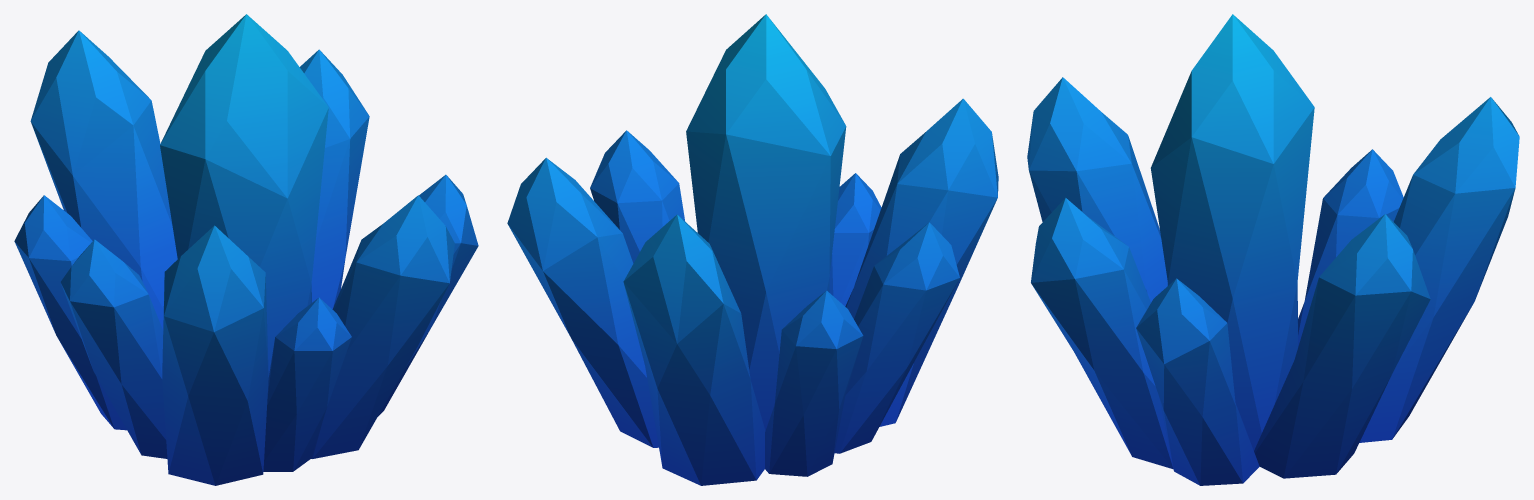
Rendered from crystal_4.glb.
3 views of the same model, side by side, from view 1: azimuth 30°, elevation 25°; view 2: azimuth 150°, elevation 25°; view 3: azimuth 270°, elevation 25° (orthographic). The views are drawn at different scales.
Parts seen in each view (by area): view 1: crystal_4; view 2: crystal_4; view 3: crystal_4.
Boxes of the visible parts, box(x1,y1,x2,y2) form: crystal_4: box(14, 14, 478, 485); crystal_4: box(507, 14, 998, 485); crystal_4: box(1027, 14, 1519, 485).
Bounding box in the file's own units: 0.8606 × 0.8839 × 0.9552.
1 material, 1 textured.
